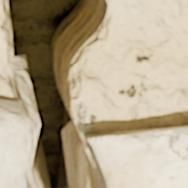broken_brick: (104, 146, 187, 187), (0, 98, 29, 187), (99, 124, 187, 147)
crack: (0, 0, 187, 187)
